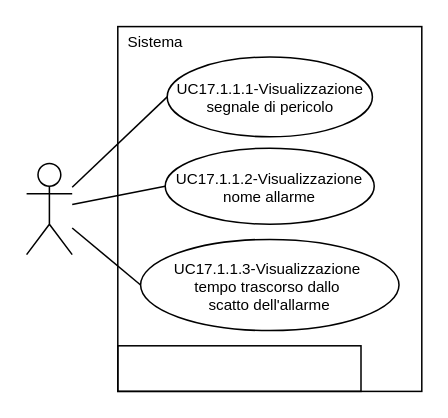
This 448x418 diagram has some shape labels left out. Here are the shapes that lost their labels. From the top down, the box of each, then its label:
(25, 162, 72, 255): Utente
(116, 344, 361, 391): UC17.1.1-Visualizzazione allarme
